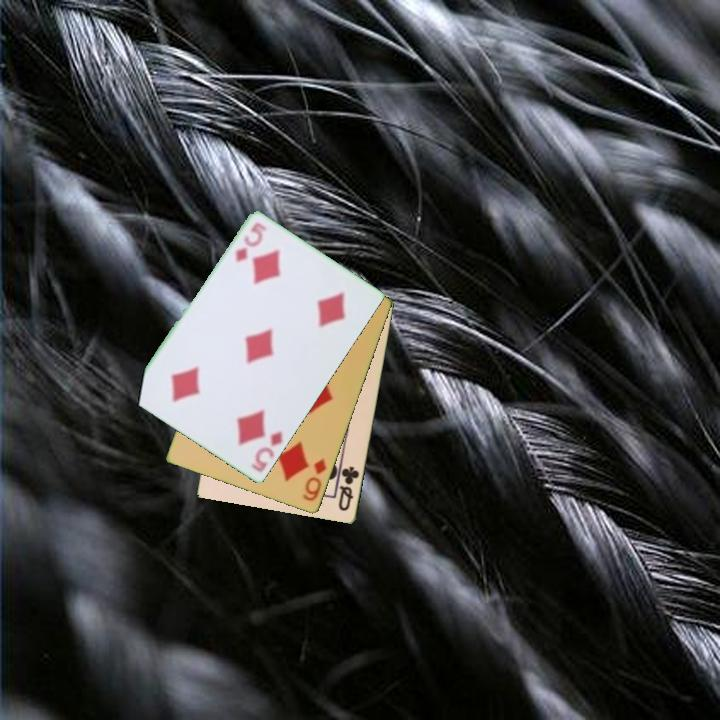5d: (247, 428, 286, 476), (232, 219, 268, 266)
6d: (299, 455, 330, 504)
Qc: (335, 463, 362, 514)
